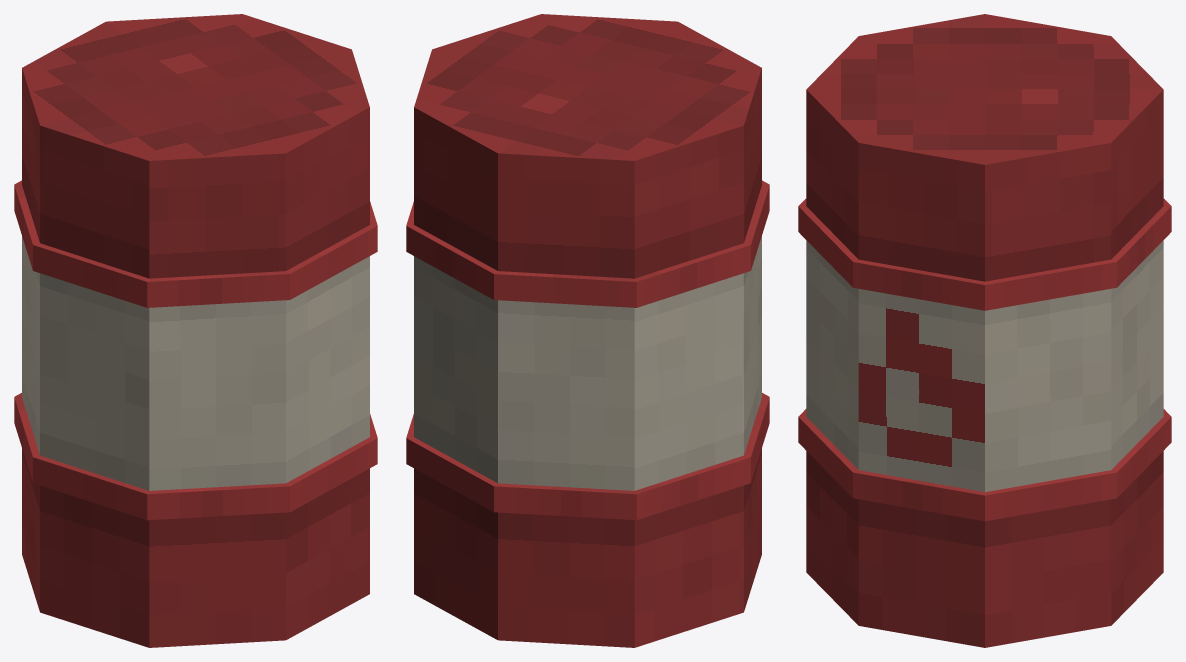
The model's file is barrel.fbx.
3 renders of one model, left to right at view 1: azimuth 30°, elevation 25°; view 2: azimuth 150°, elevation 25°; view 3: azimuth 270°, elevation 25°, orthographic.
Visible parts, largest first — view 1: pCylinder1; view 2: pCylinder1; view 3: pCylinder1.
Part boxes in pixels (x1=…): pCylinder1: x1=14, y1=14, x2=377, y2=647; pCylinder1: x1=406, y1=14, x2=769, y2=647; pCylinder1: x1=798, y1=14, x2=1171, y2=647.
Bounding box in the file's own units: 11.53 × 16.46 × 11.53.
